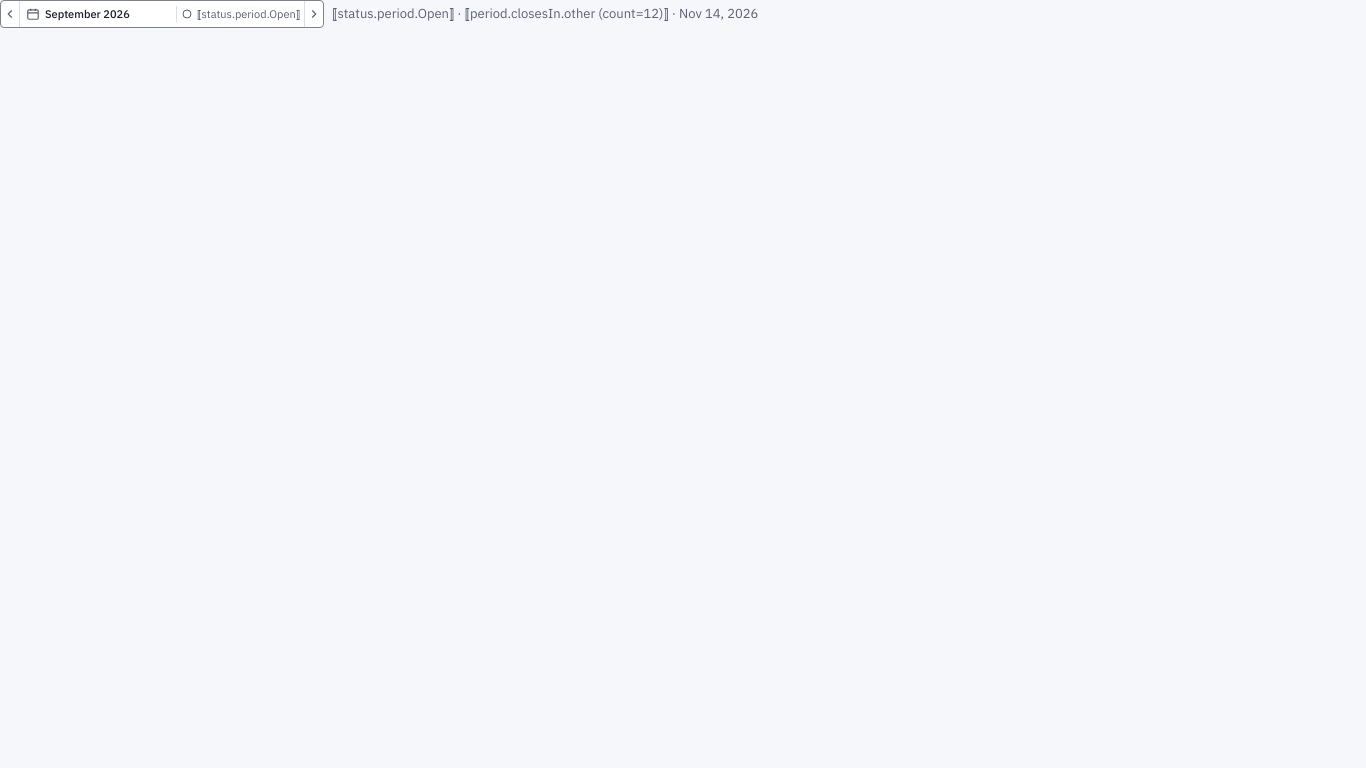
Scenario: PeriodPicker: сітка періодів (UI-13) › стан з календарів: чип «Open», значок і стан у сітці, підпис «closes in N days · дата»
Expected: the element with test id "period-state" reads "⟦status.period.Open⟧", x1=197 y1=7 x2=300 y2=21
Click the button named "⟦period.choose⟧": (33, 14) x1=24 y1=5 x2=42 y2=23
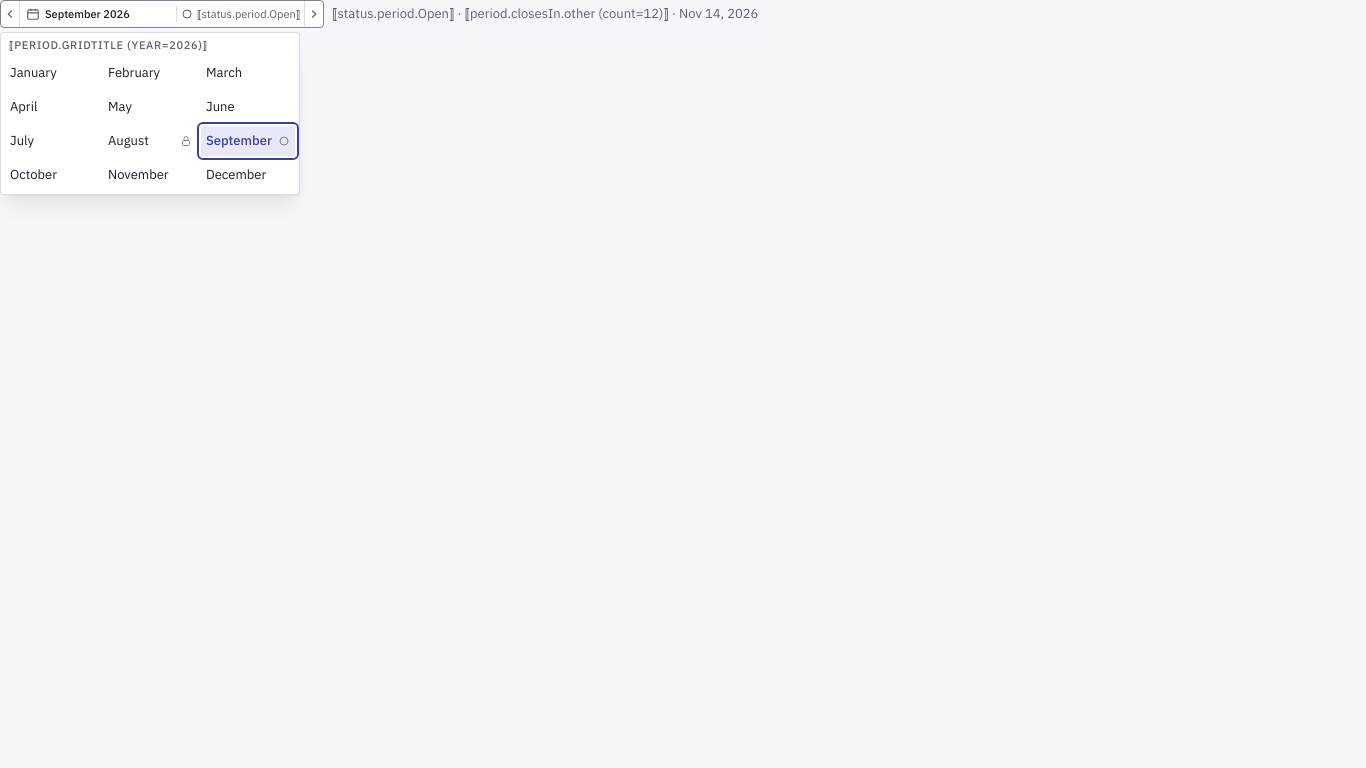
Expected: the button with aria-label "September 2026, ⟦status.period.Open⟧" is shown, x1=201 y1=126 x2=295 y2=156
Expected: the button with aria-label "August 2026, ⟦status.period.Closed⟧" is shown, x1=103 y1=126 x2=197 y2=156
Expected: the button with aria-label "October 2026" is shown, x1=5 y1=160 x2=99 y2=190
